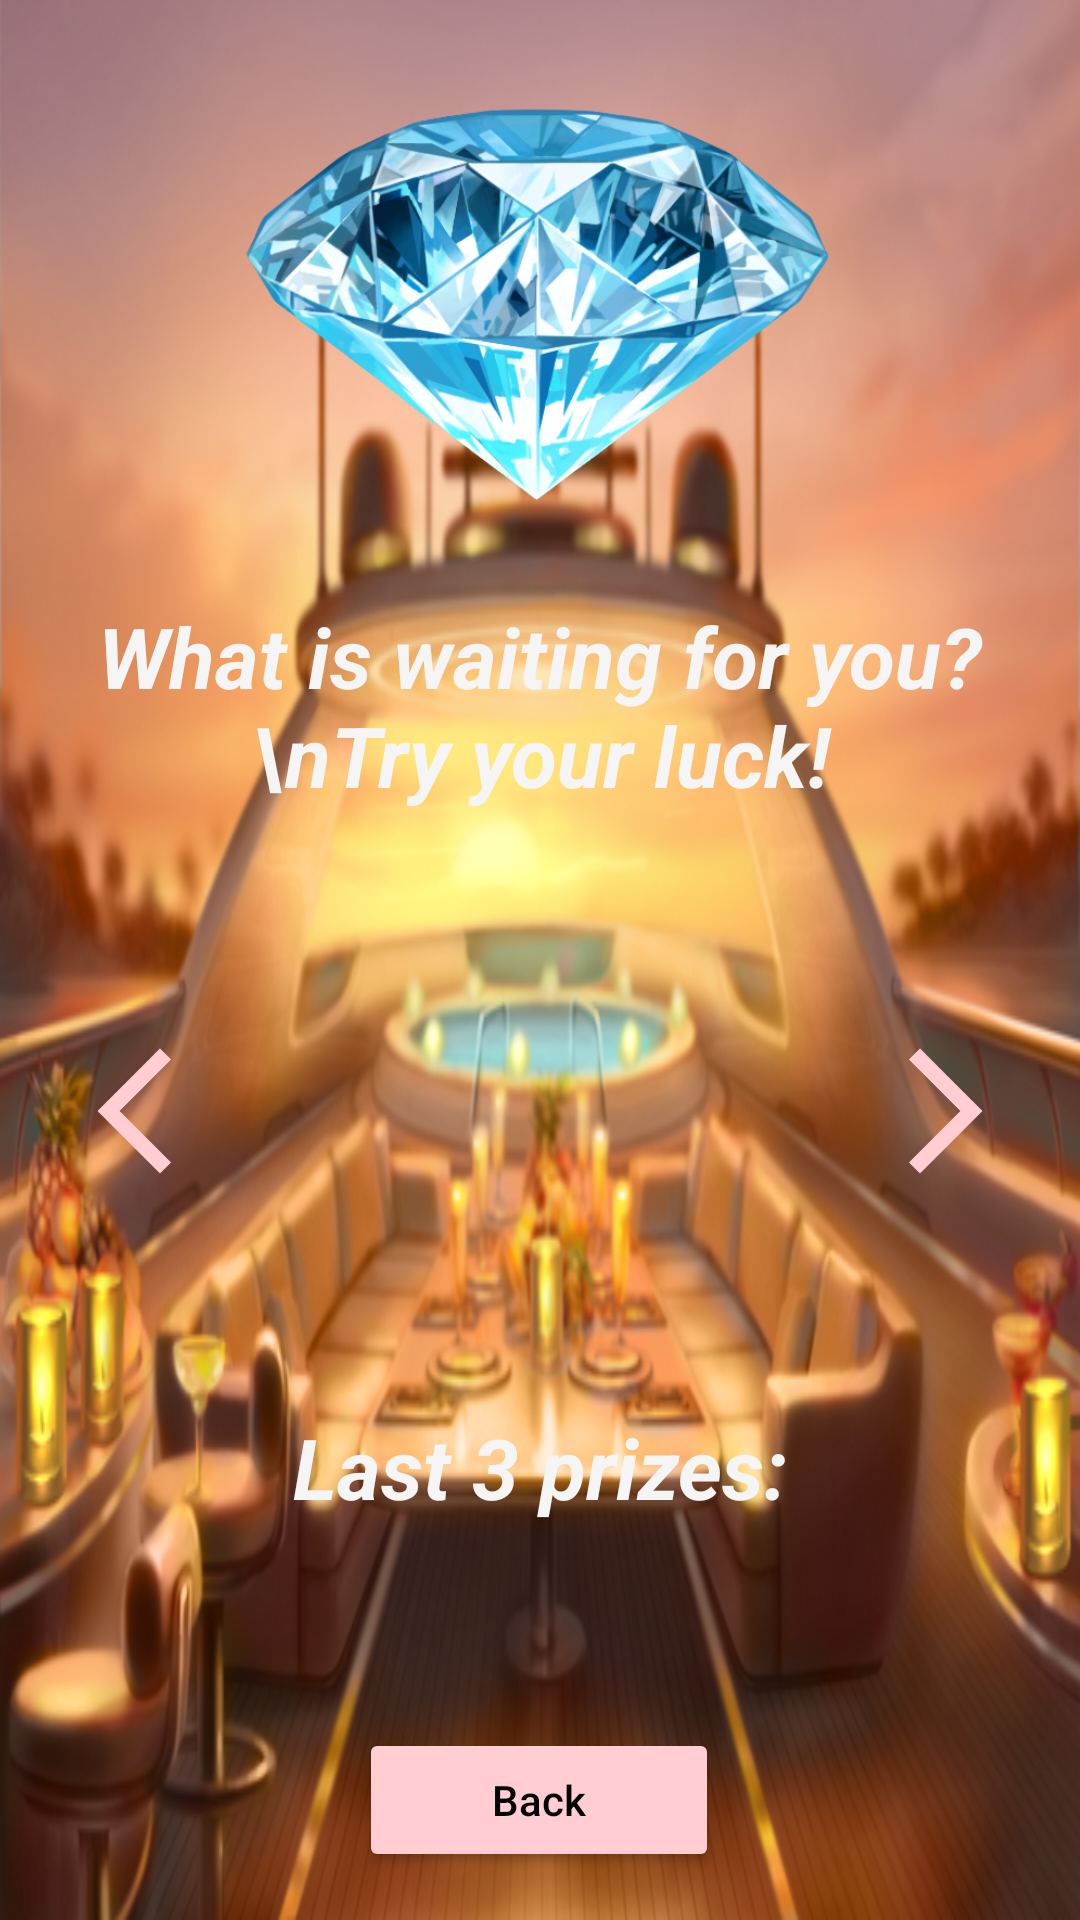

Named icons in this screenshot (1080 × 1920) and their centers, (x,y):
arrow left: (135,1111)
arrow right: (945,1111)
